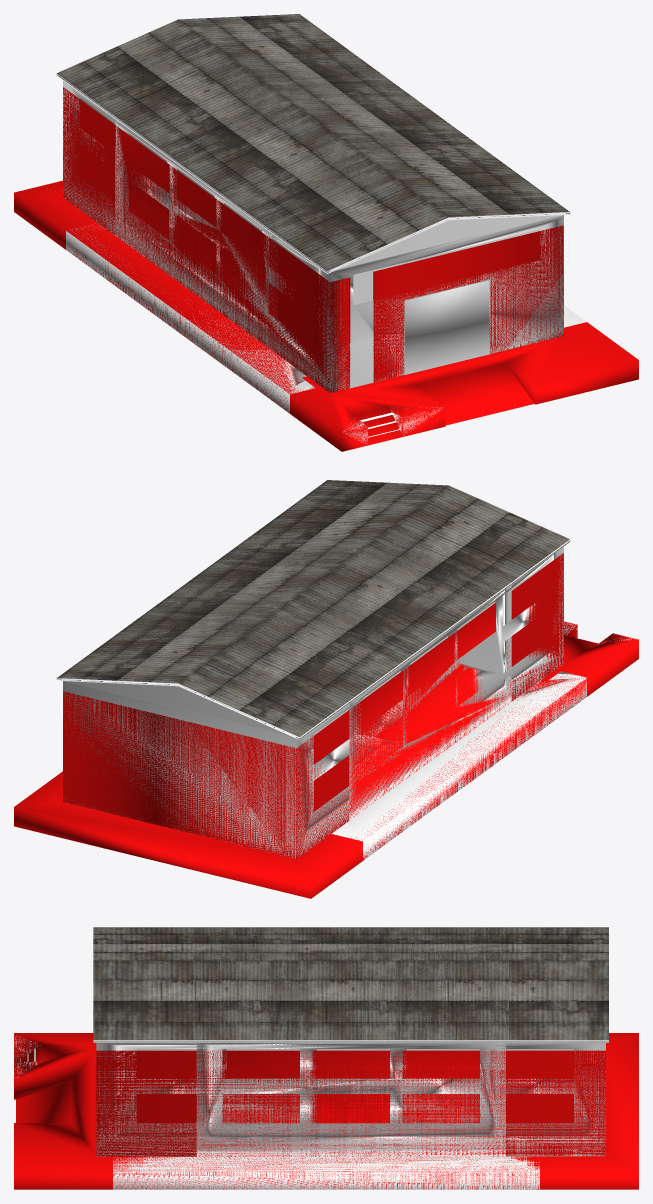
The model's file is lagerhalle_0002.fbx.
The picture shows the model from 3 angles, top to bottom: view 1: azimuth 30°, elevation 25°; view 2: azimuth 150°, elevation 25°; view 3: azimuth 270°, elevation 25°; orthographic projection. The views are drawn at different scales.
Visible parts, largest first — view 1: lagerhalle_0002b, lagerhalle_0002b_colmesh, lagerhalle_0002a, lagerhalle_0002a_colmesh, lagerhalle_0002b_tuere; view 2: lagerhalle_0002b, lagerhalle_0002b_colmesh, lagerhalle_0002a, lagerhalle_0002a_colmesh; view 3: lagerhalle_0002a, lagerhalle_0002b_colmesh, lagerhalle_0002b, lagerhalle_0002a_colmesh.
Part boxes in pixels (box(x1,y1,x2,y2)): lagerhalle_0002b: box(56, 14, 570, 443); lagerhalle_0002b_colmesh: box(14, 87, 638, 451); lagerhalle_0002a: box(66, 52, 586, 413); lagerhalle_0002a_colmesh: box(115, 126, 314, 393); lagerhalle_0002b_tuere: box(350, 338, 373, 388); lagerhalle_0002b: box(56, 480, 634, 858); lagerhalle_0002b_colmesh: box(14, 553, 638, 898); lagerhalle_0002a: box(110, 518, 586, 860); lagerhalle_0002a_colmesh: box(349, 603, 585, 817); lagerhalle_0002a: box(113, 927, 539, 1189); lagerhalle_0002b_colmesh: box(14, 1033, 638, 1189); lagerhalle_0002b: box(14, 927, 608, 1156); lagerhalle_0002a_colmesh: box(196, 1051, 505, 1156).
Size of the model in its own units: 1446 by 780 by 2764.
